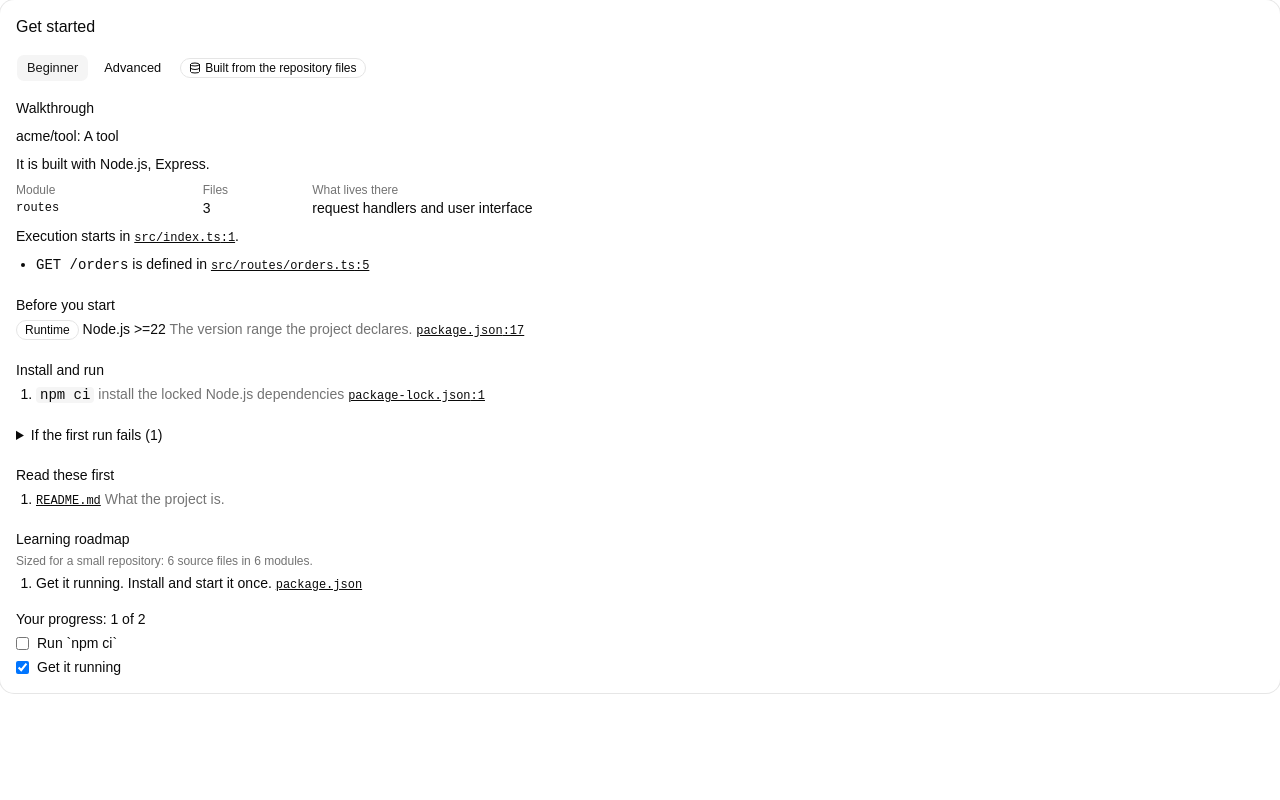
Test: Get started panel › stores ticks for a signed-in user
Expected: the heading "Your progress: 1 of 2" is shown, [16,611,146,627]
Expected: the checkbox labelled "Get it running" is checked, [16,661,29,674]
Click the checkbox labelled "Run `npm ci`". click: (22, 644)
box: [16,637,29,650]
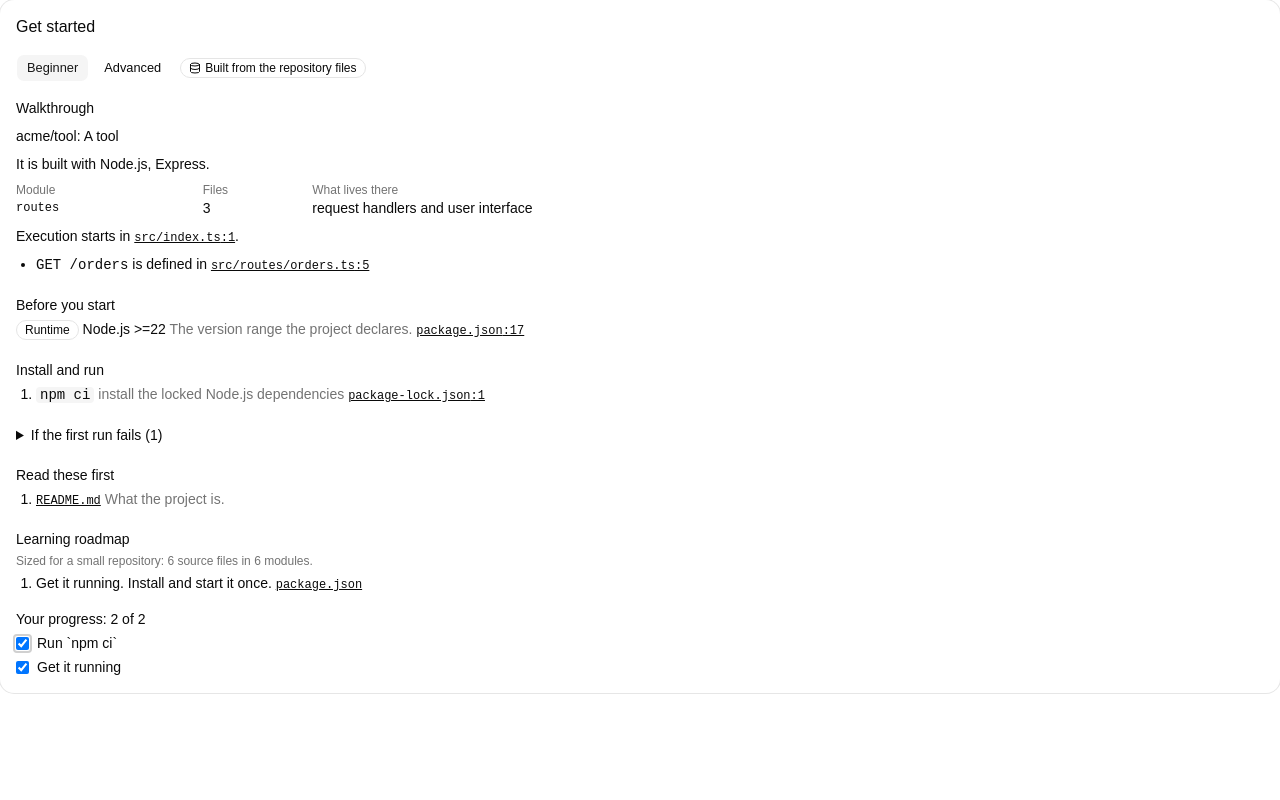
Now the heading "Your progress: 2 of 2" is shown, box [16,611,146,627]
